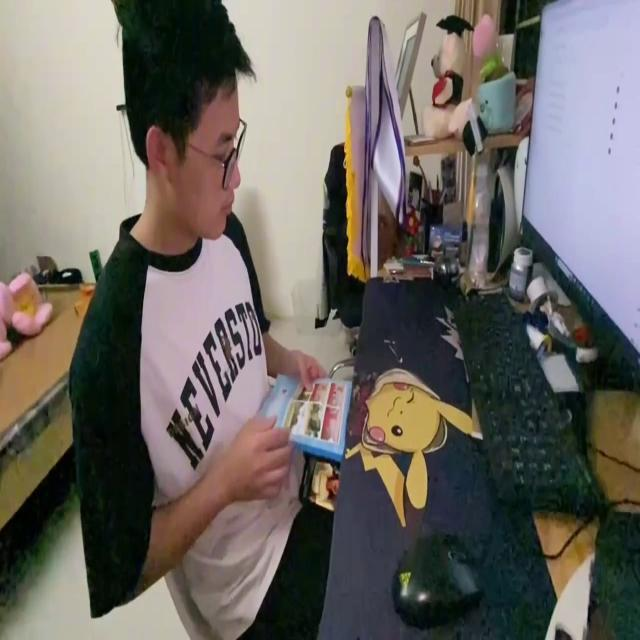book: (258, 367, 354, 463)
laptop: (517, 0, 640, 400)
phone: (298, 455, 344, 519)
student: (70, 0, 334, 638)
